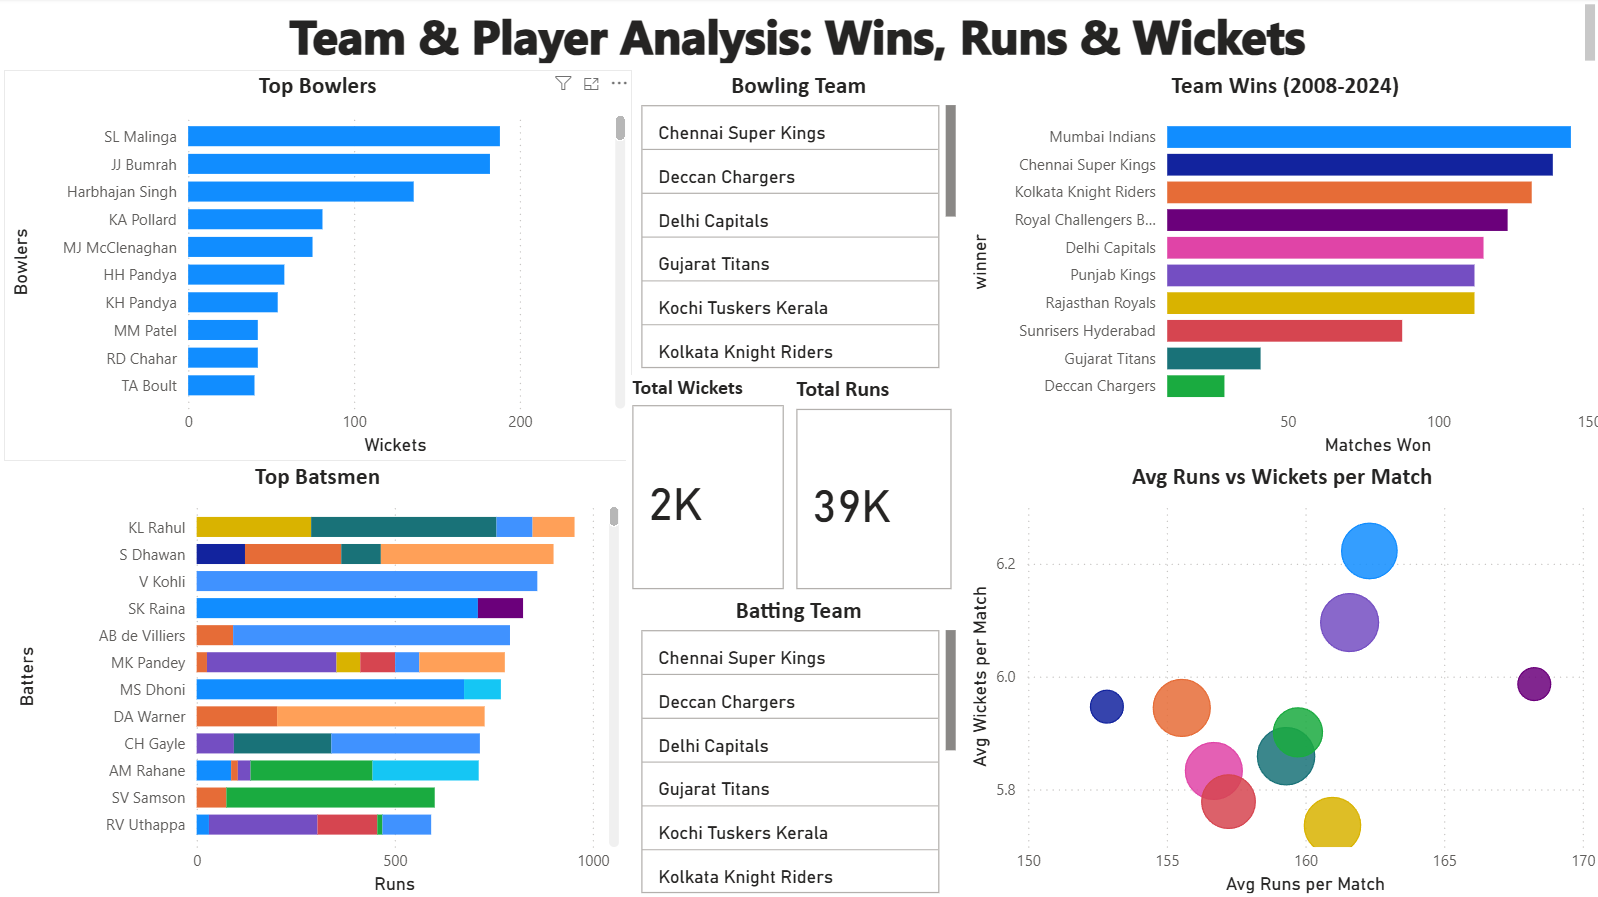

What the dashboard file says about the page in this screenshot:
{"tool":"powerbi","page":{"name":"Teams & Players","canvas":[1280,720],"ordinal":1},"visuals":[{"type":"barChart","title":"Team Wins (2008-2024)","fields":{"Category":["matches_clean (2).winner"],"Y":["matches_clean (2).winner"],"Series":["matches_clean (2).winner"]},"box":[770.3,57.4,509.7,312.2],"z":0},{"type":"barChart","title":"Top Batsmen","fields":{"Category":["deliveries_cleaned.batter"],"Y":["deliveries_cleaned.batsman_runs"],"Series":["deliveries_cleaned.batting_team"]},"box":[9.7,369.6,491.2,350.2],"z":1000},{"type":"barChart","title":"Top Bowlers","fields":{"Category":["deliveries_cleaned.bowler"],"Y":["deliveries_cleaned.is_wicket"],"Series":["deliveries_cleaned.bowling_team"]},"box":[4.9,57.4,500.9,312.2],"z":2000},{"type":"scatterChart","title":"Avg Runs vs Wickets per Match","fields":{"X":["team_performance_balance.avg_runs_per_match"],"Y":["team_performance_balance.avg_wickets_per_match"],"Category":["team_performance_balance.team"],"Series":["team_performance_balance.team"],"Size":["team_performance_balance.total_matches"]},"box":[770.3,369.6,509.7,350.2],"z":3000},{"type":"cardVisual","title":"Total Runs","fields":{"Data":["deliveries_cleaned.batsman_runs"]},"box":[632.2,300.5,134.2,176],"z":4000},{"type":"cardVisual","title":"Total Wickets","fields":{"Data":["deliveries_cleaned.is_wicket"]},"box":[500.9,300.5,131.3,176],"z":5000},{"type":"advancedSlicerVisual","title":"Bowling Team","fields":{"Values":["deliveries_cleaned.bowling_team"]},"box":[508.7,57.4,261.6,243.2],"z":6000},{"type":"advancedSlicerVisual","title":"Batting Team","fields":{"Values":["deliveries_cleaned.batting_team"]},"box":[508.7,476.6,261.6,243.2],"z":7000},{"type":"textbox","box":[5.1,0,1274.9,57],"z":8000}]}

Visuals, with their boxes in screenshot pixels (x1, y1, x2, y2), scaled from the page's 1280x720 canvas onto the 1598x897 screenshot:
"Team Wins (2008-2024)" barChart: rect(962, 72, 1597, 460)
"Top Batsmen" barChart: rect(12, 460, 625, 896)
"Top Bowlers" barChart: rect(6, 72, 631, 460)
"Avg Runs vs Wickets per Match" scatterChart: rect(962, 460, 1597, 896)
"Total Runs" cardVisual: rect(789, 374, 957, 594)
"Total Wickets" cardVisual: rect(625, 374, 789, 594)
"Bowling Team" advancedSlicerVisual: rect(635, 72, 962, 374)
"Batting Team" advancedSlicerVisual: rect(635, 594, 962, 896)
textbox: rect(6, 0, 1597, 71)
